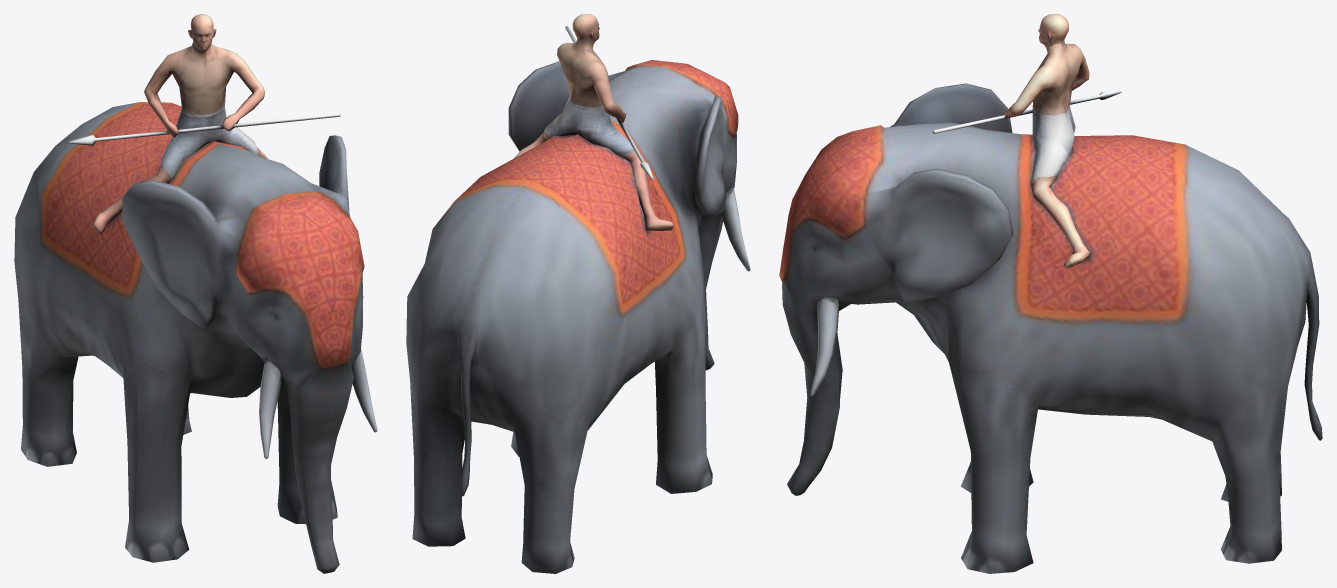
Rendered from Elephants.glb.
3 renders of one model, left to right at view 1: azimuth 30°, elevation 25°; view 2: azimuth 150°, elevation 25°; view 3: azimuth 270°, elevation 25°, orthographic. The views are drawn at different scales.
Visible parts, largest first — view 1: Plane.002; view 2: Plane.002; view 3: Plane.002.
Boxes of the visible parts, x1,y1,x2,y2 form: Plane.002: (14, 14, 377, 573); Plane.002: (406, 14, 750, 573); Plane.002: (779, 14, 1322, 573).
Bounding box in the file's own units: 1.97 × 4.52 × 4.32.
Materials: 2 (2 with a texture image).
